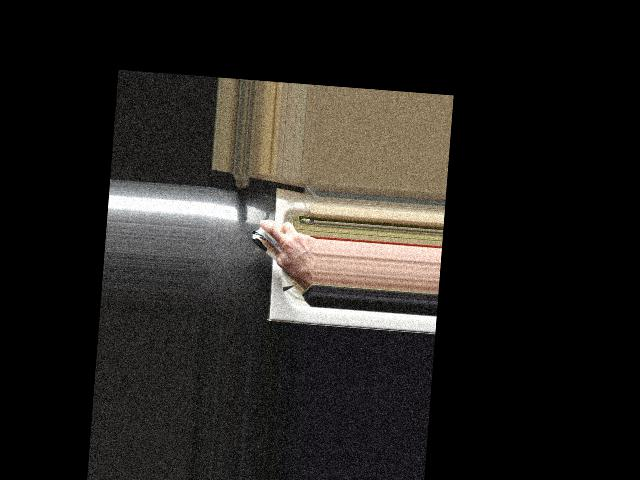cheese: (247, 221, 313, 272)
